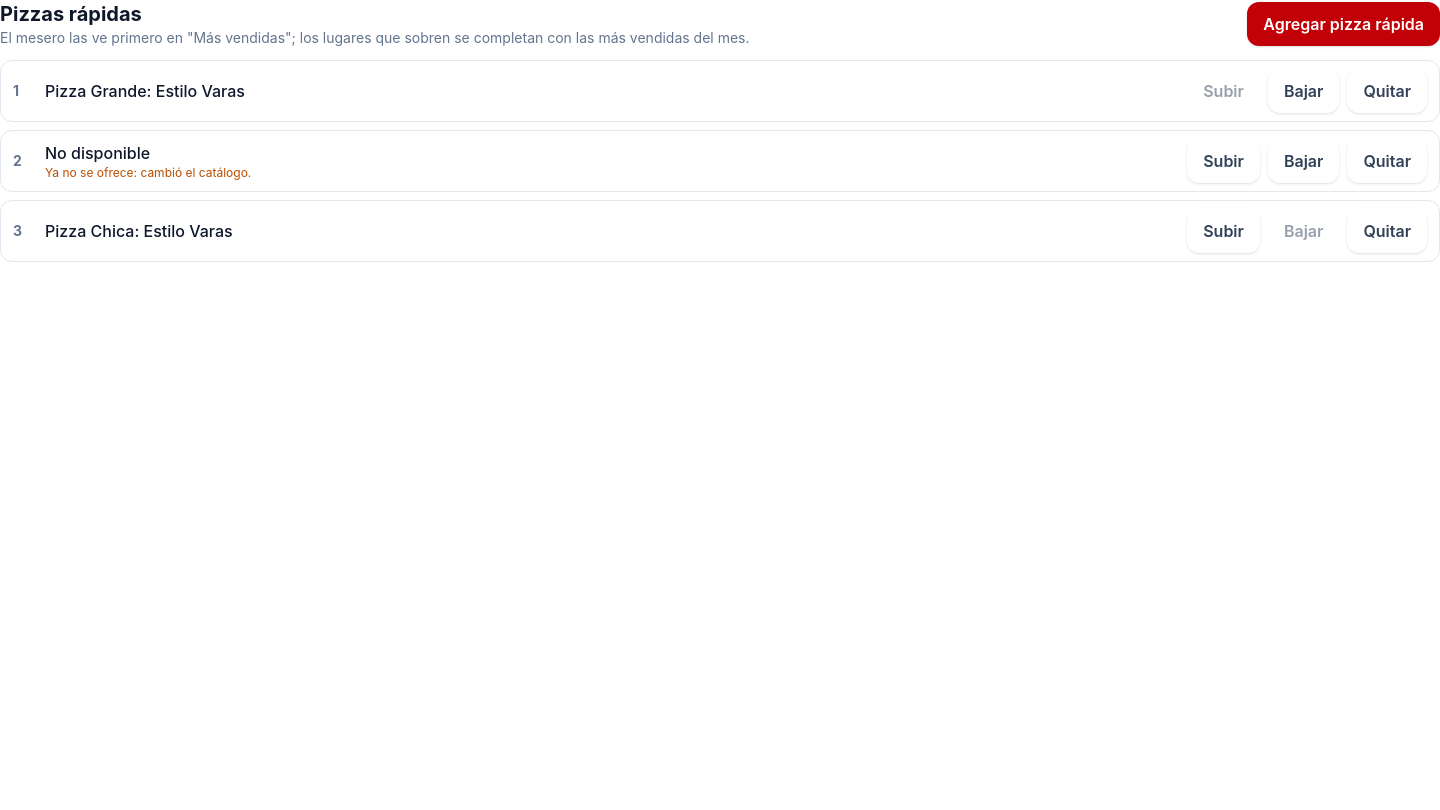
Test: QuickPizzasSection › shows the server message when fixing fails
This screenshot has width=1440, height=810.
Click the button "Agregar pizza rápida": (1344, 24) [1247,2,1439,46]
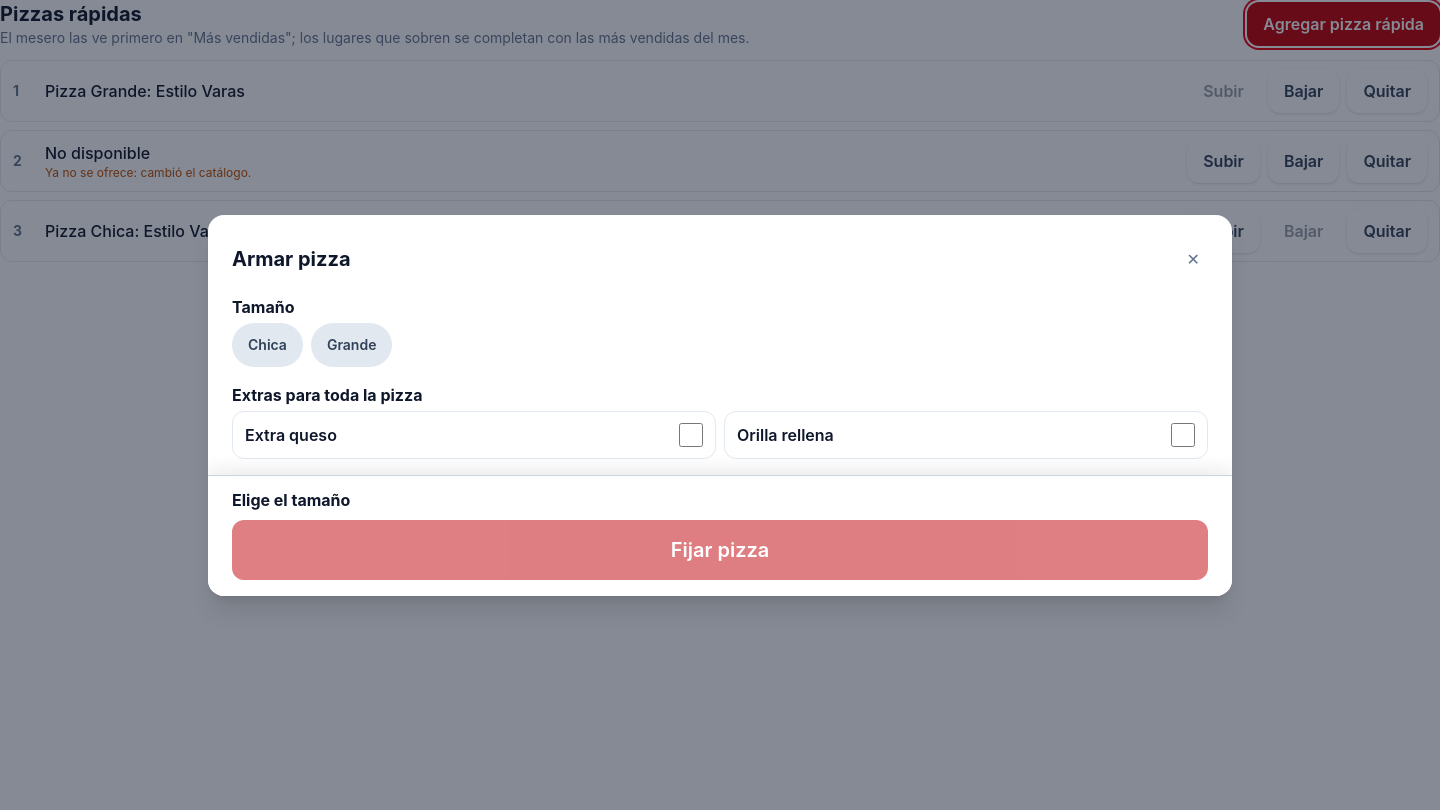
// Size → (short pause) style (no ingredients to choose): "Fijar pizza" is ready without any "Siguiente".
Click the button "Chica": (267, 344) [232,322,303,366]
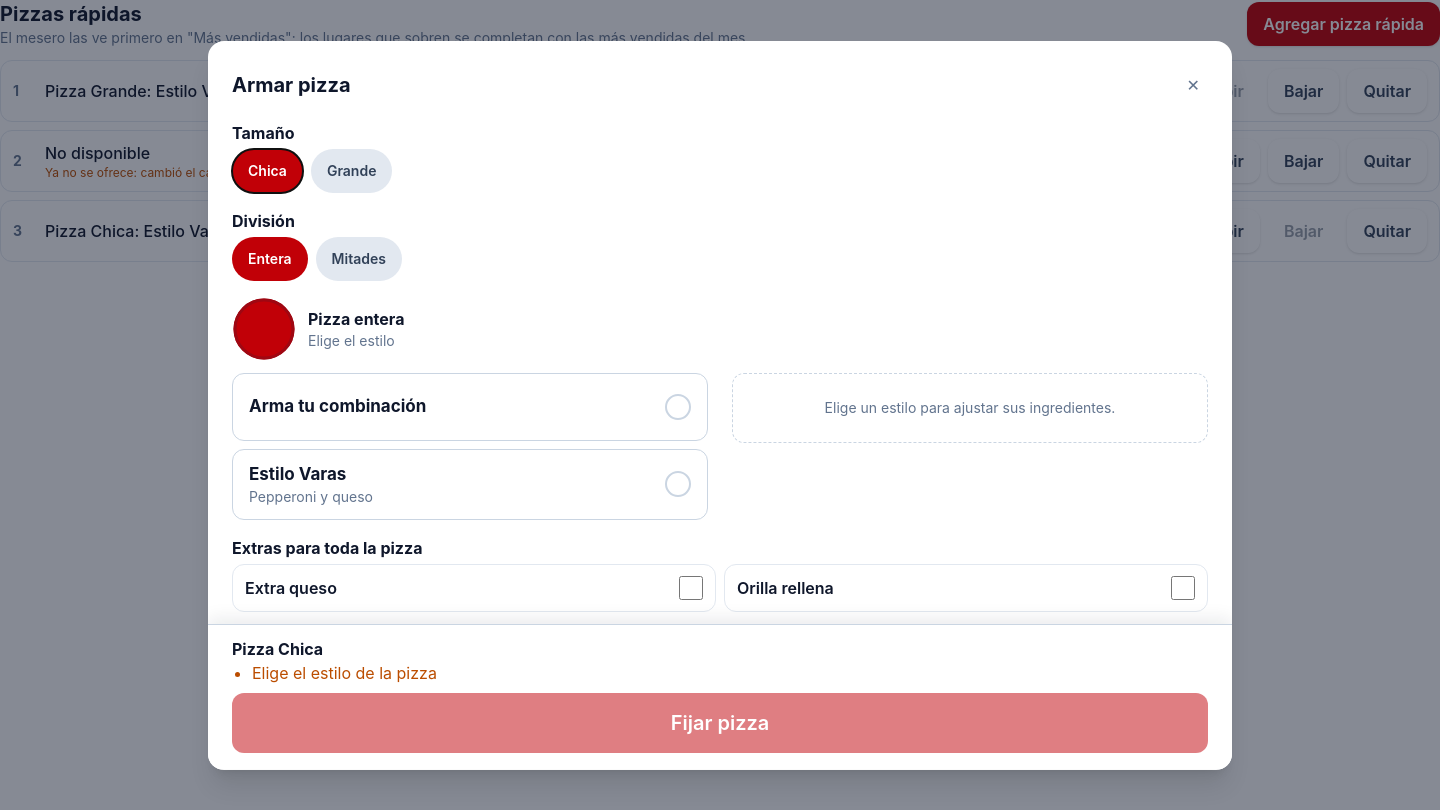
Click the button "Estilo Varas Pepperoni y queso ✓": (298, 474) [232,448,708,520]
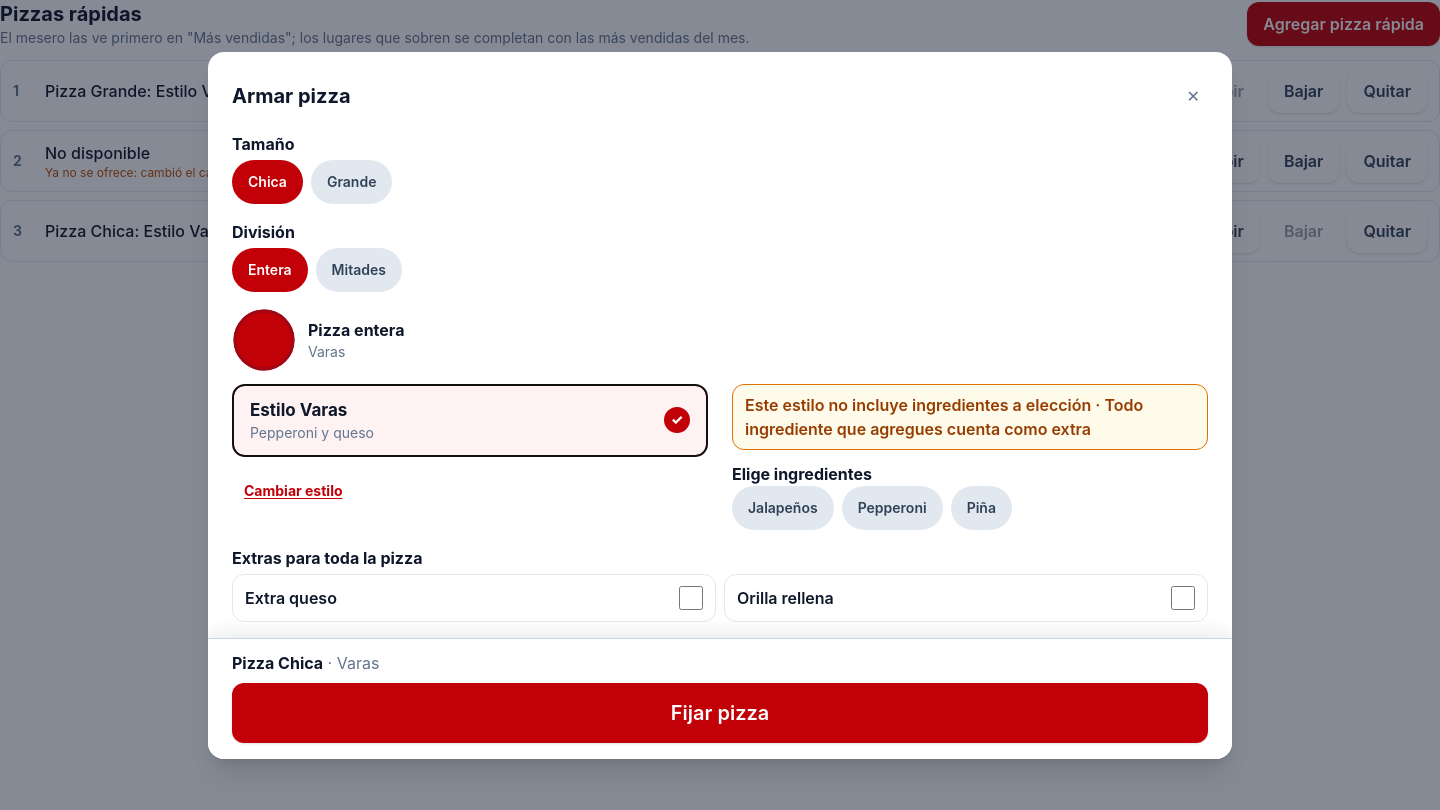
Click the button "Fijar pizza": (720, 712) [232,682,1208,742]
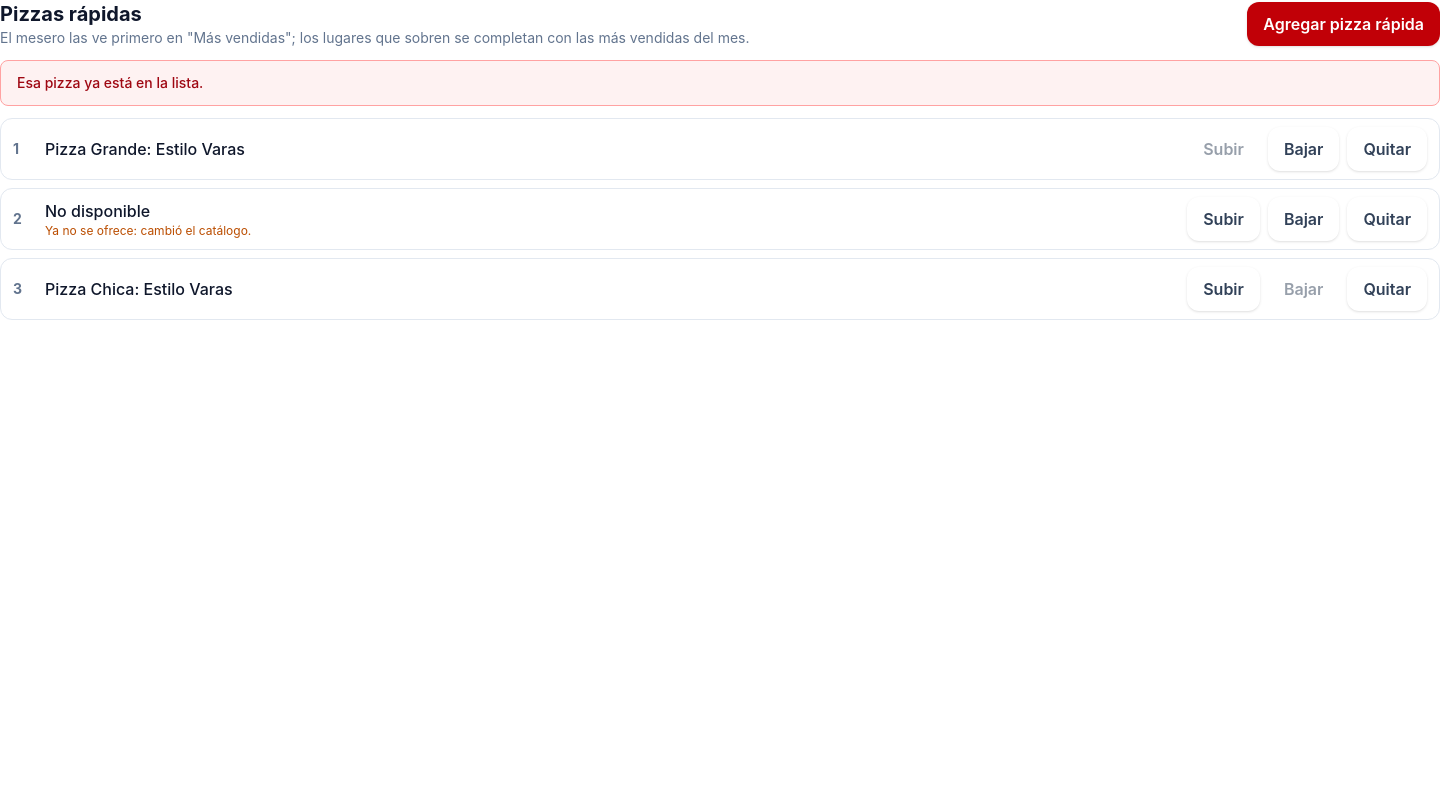
Result: the text "Esa pizza ya está en la lista." is shown at [0,60,1439,106]
